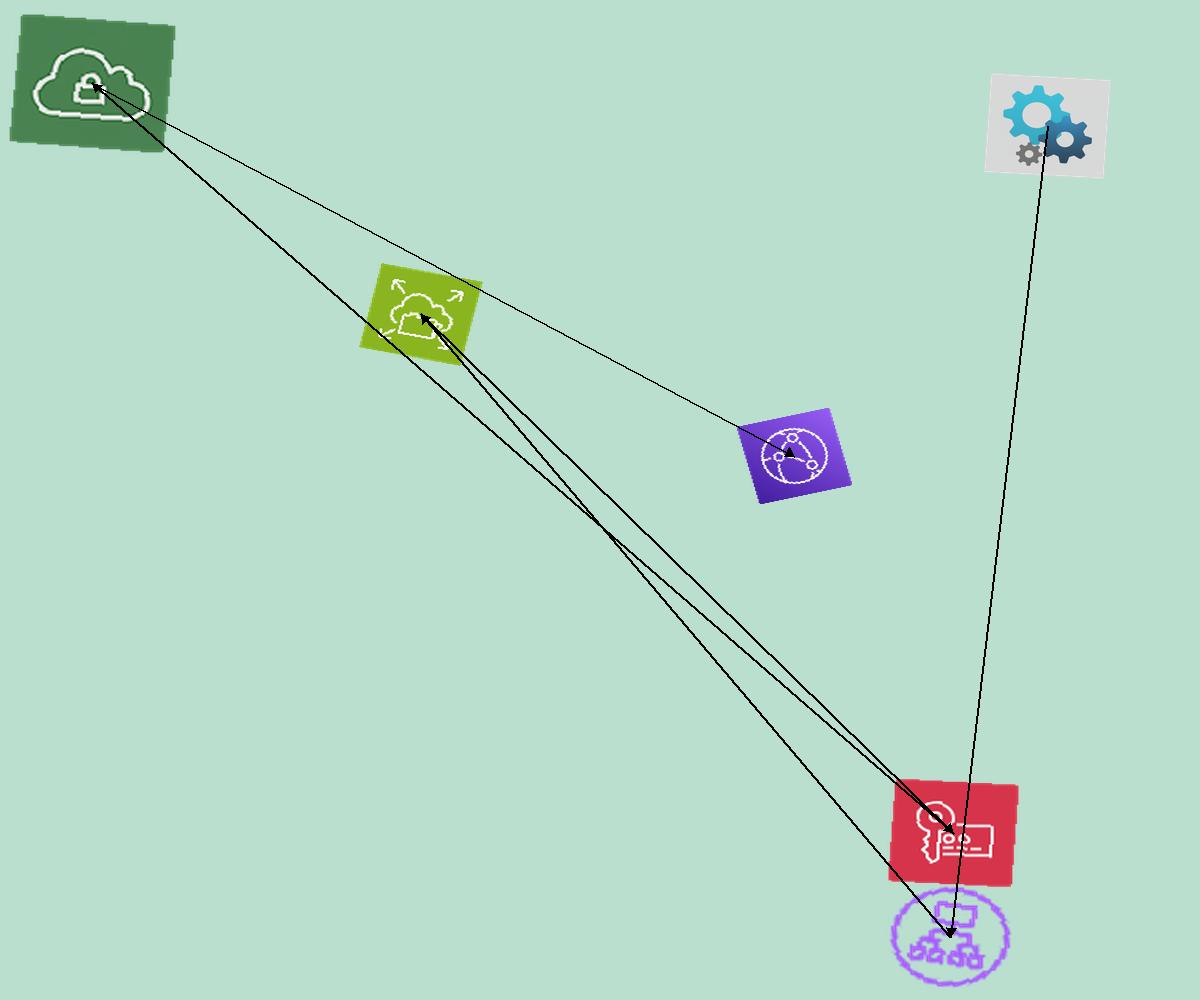AWS-CloudFront: (736, 407, 853, 505)
AWS-EFS: (359, 263, 483, 366)
AWS-Key-Management-Service: (887, 778, 1020, 888)
AWS-Private_vpc: (8, 13, 177, 154)
AWS-Res_Elastic-Load-Balancing_Application-Load-Balancer: (875, 874, 1026, 1000)
Azure_api: (984, 73, 1111, 179)
